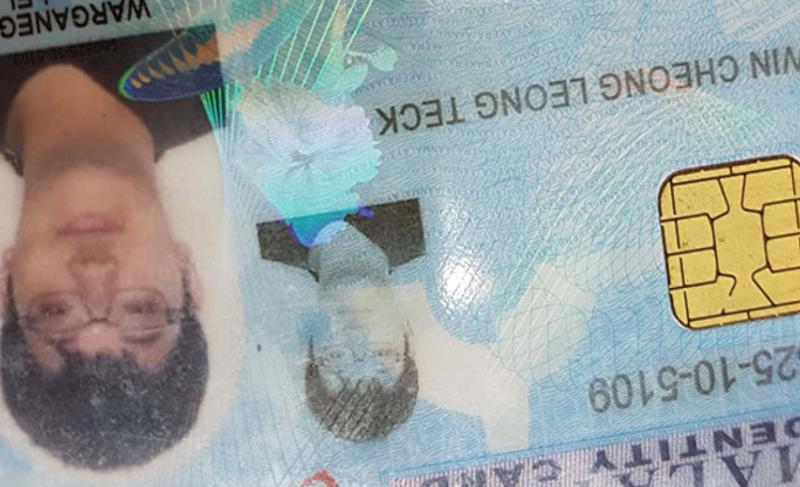hologramB: (228, 23, 374, 207)
